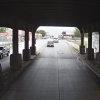Bridge: (3, 2, 100, 64)
